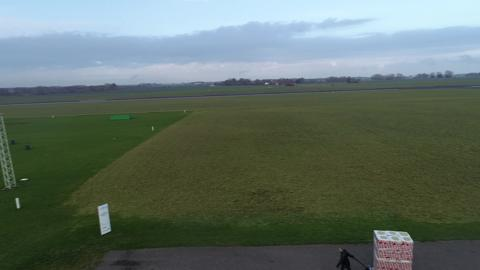RockwoolPallet: (370, 228, 415, 270)
